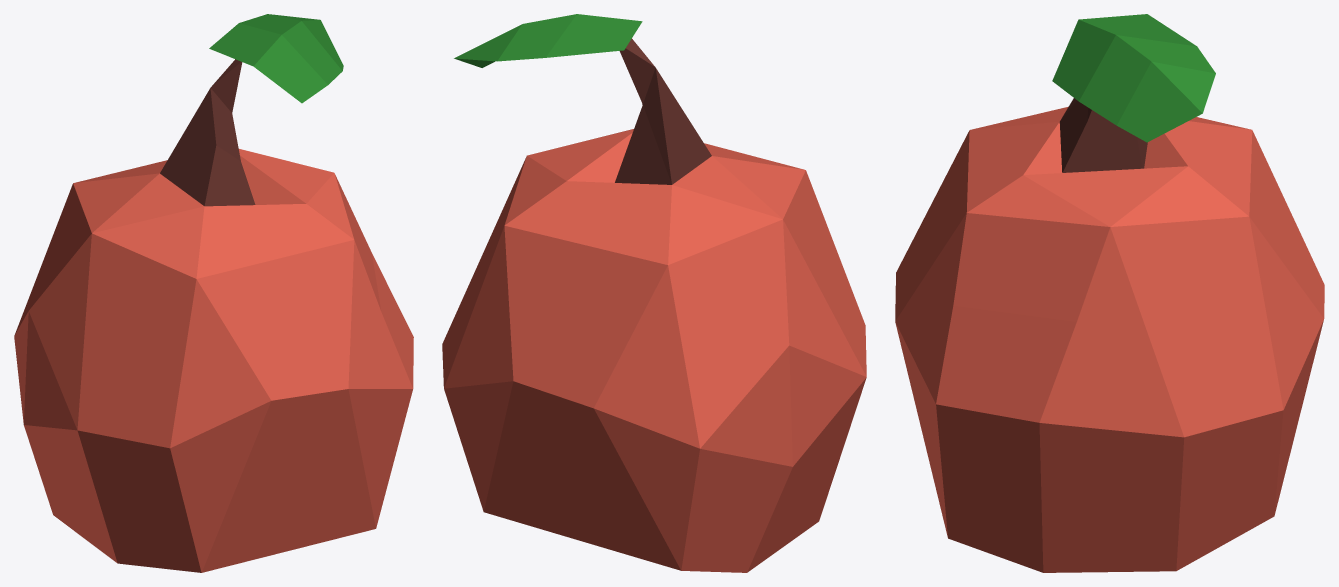
The model's file is apple.fbx.
3 renders of one model, left to right at view 1: azimuth 30°, elevation 25°; view 2: azimuth 150°, elevation 25°; view 3: azimuth 270°, elevation 25°, orthographic. The views are drawn at different scales.
Parts seen in each view (by area): view 1: Cube, Cube.001; view 2: Cube, Cube.001; view 3: Cube, Cube.001.
Part boxes in pixels (x1,y1,x2,y2): Cube: (14,59,413,572); Cube.001: (209,14,343,103); Cube: (442,38,866,572); Cube.001: (454,14,642,67); Cube: (895,98,1324,572); Cube.001: (1052,14,1215,142).
Size of the model in its own units: 327 by 430 by 324.
